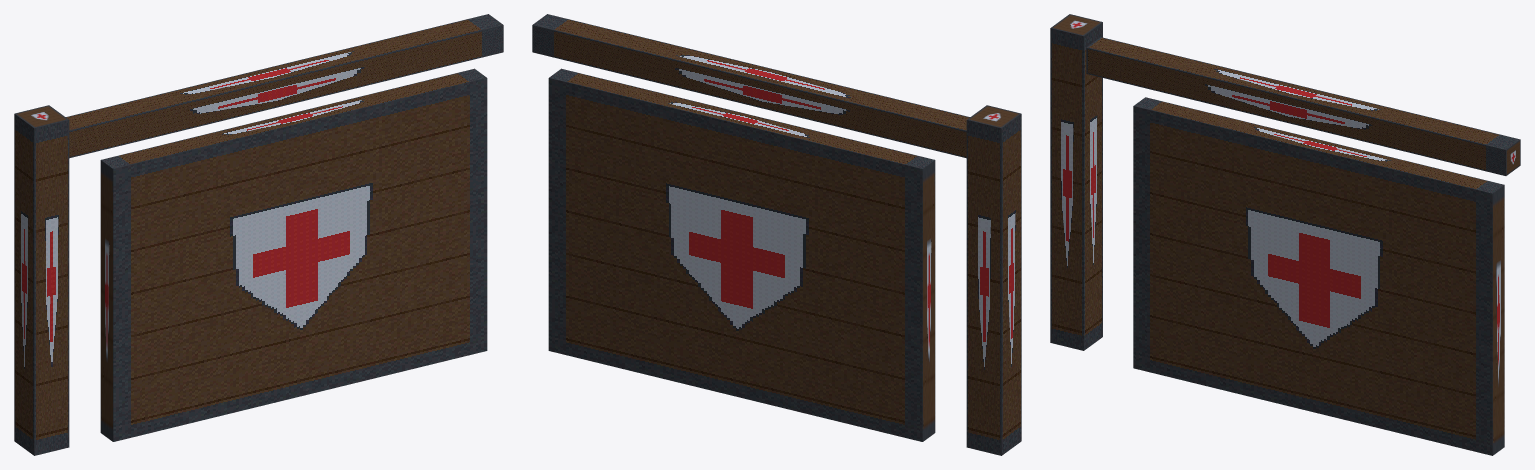
The model's file is placa_da_guarda.glb.
The picture shows the model from 3 angles, left to right: view 1: azimuth 30°, elevation 25°; view 2: azimuth 150°, elevation 25°; view 3: azimuth 330°, elevation 25°; orthographic projection. The views are drawn at different scales.
Parts seen in each view (by area): view 1: placa_da_guarda; view 2: placa_da_guarda; view 3: placa_da_guarda.
Boxes of the visible parts, <box> form: placa_da_guarda: <box>14,14,503,455</box>; placa_da_guarda: <box>532,14,1021,455</box>; placa_da_guarda: <box>1050,14,1520,455</box>.
Bounding box in the file's own units: 1.08 × 0.74 × 0.08.
Materials: 1 (1 with a texture image).
